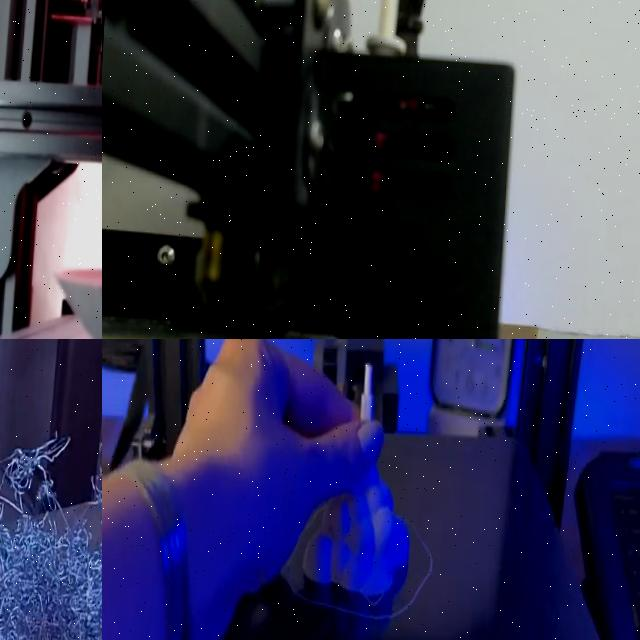spaghetti: (0, 390, 102, 640)
